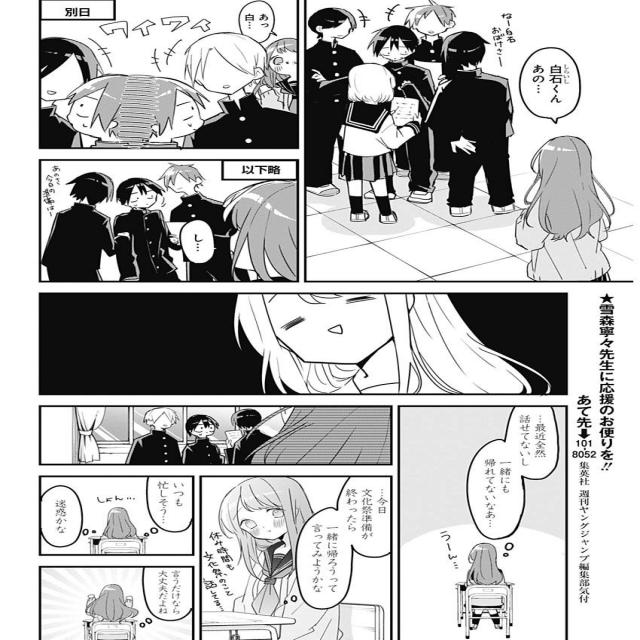Bubble: (466, 438, 528, 540), (297, 506, 354, 610), (335, 474, 394, 559), (518, 48, 582, 120), (504, 406, 558, 480), (139, 564, 197, 622), (143, 476, 194, 534), (39, 486, 84, 549), (38, 0, 120, 22), (218, 158, 300, 180), (238, 0, 278, 45), (178, 220, 214, 265)
